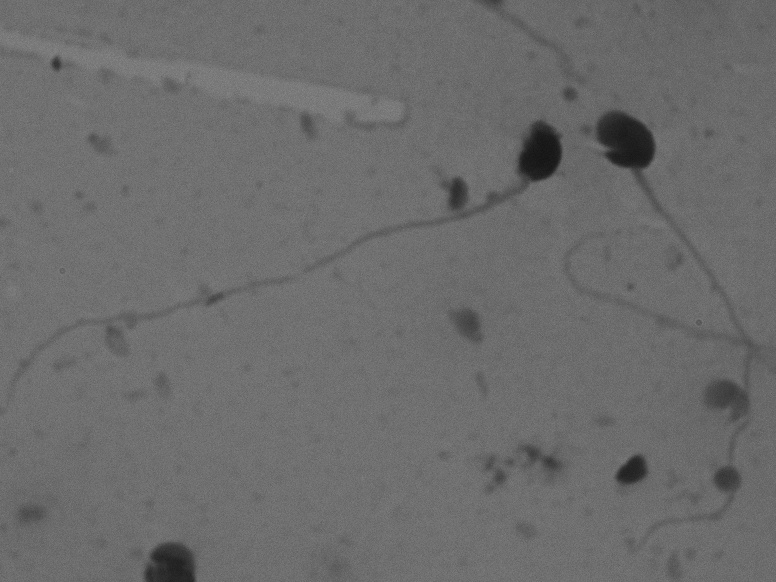Abnormal: (36, 105, 575, 428), (579, 60, 767, 560)
